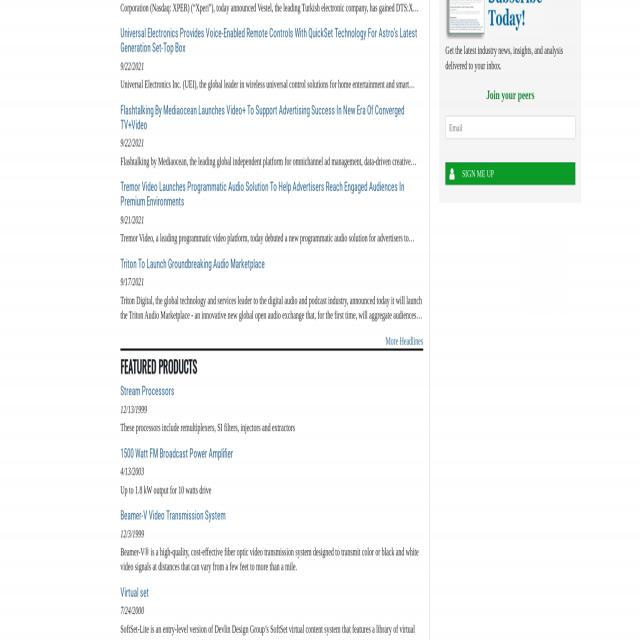button: (442, 0, 552, 44), (445, 162, 575, 186)
field: (445, 115, 575, 138)
